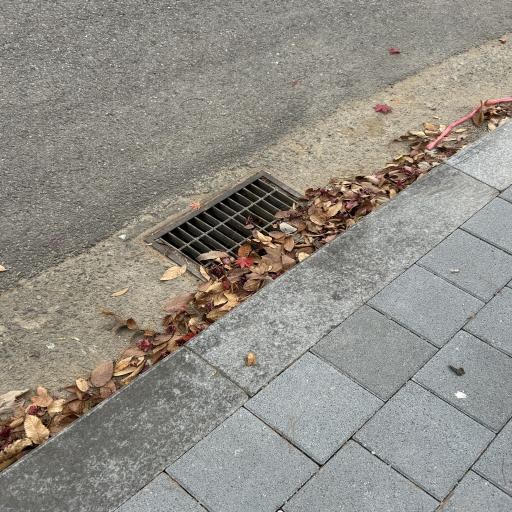debris: (178, 253, 190, 262), (262, 177, 271, 189), (165, 245, 173, 250), (228, 240, 234, 244)
drain: (154, 176, 351, 303)
